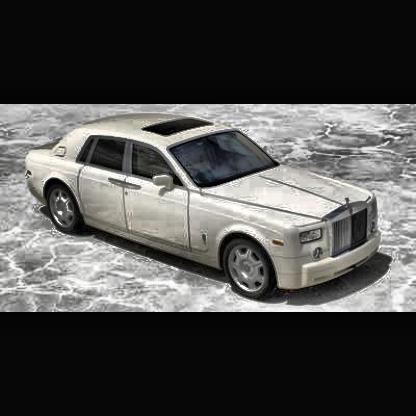Rolls-Royce Phantom Sedan 2012: (15, 108, 397, 303)
